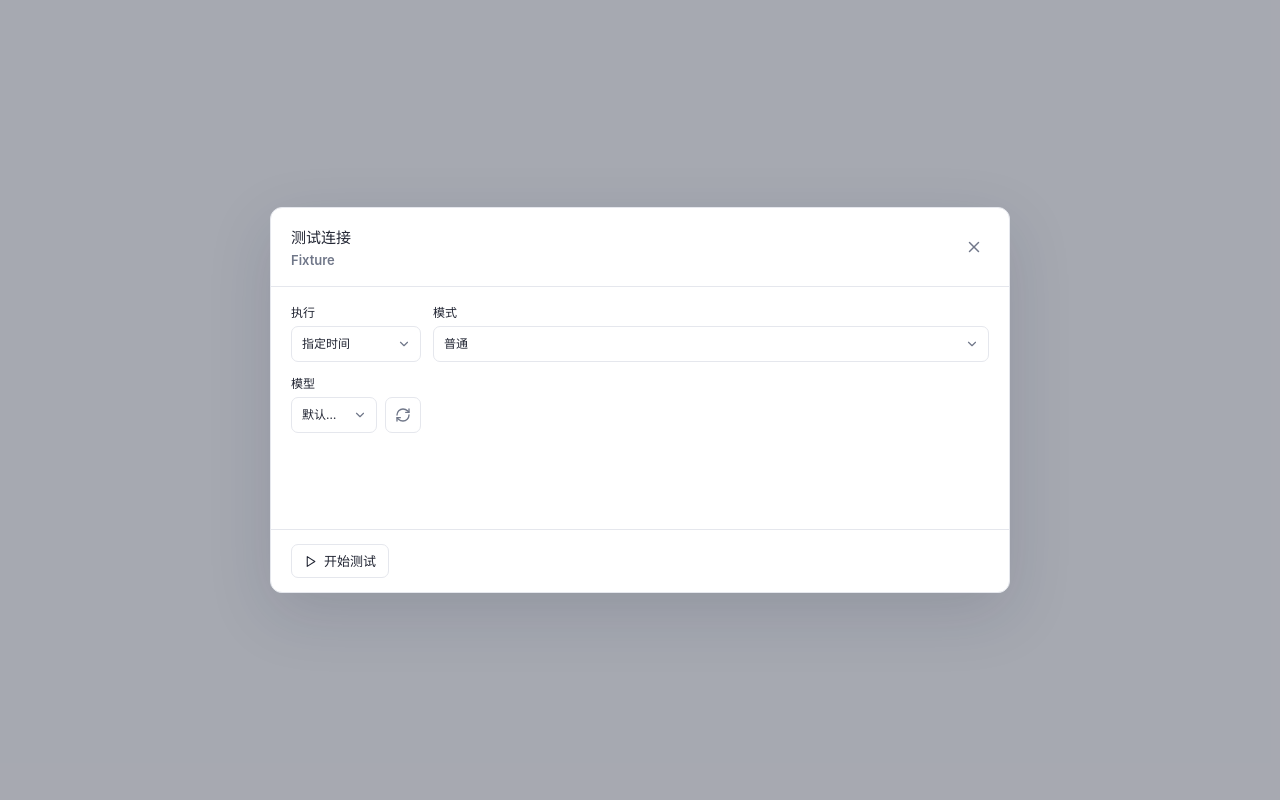
Test case: keeps the appointment dialog open when submission is needs_confirmation
The width and height of the screenshot is (1280, 800).
Select "指定时间" in the dropdown named "执行方式" at (356, 344), box [291,326,421,362]
Select "指定时间" in the dropdown named "执行方式" at (356, 344), box [291,326,421,362]
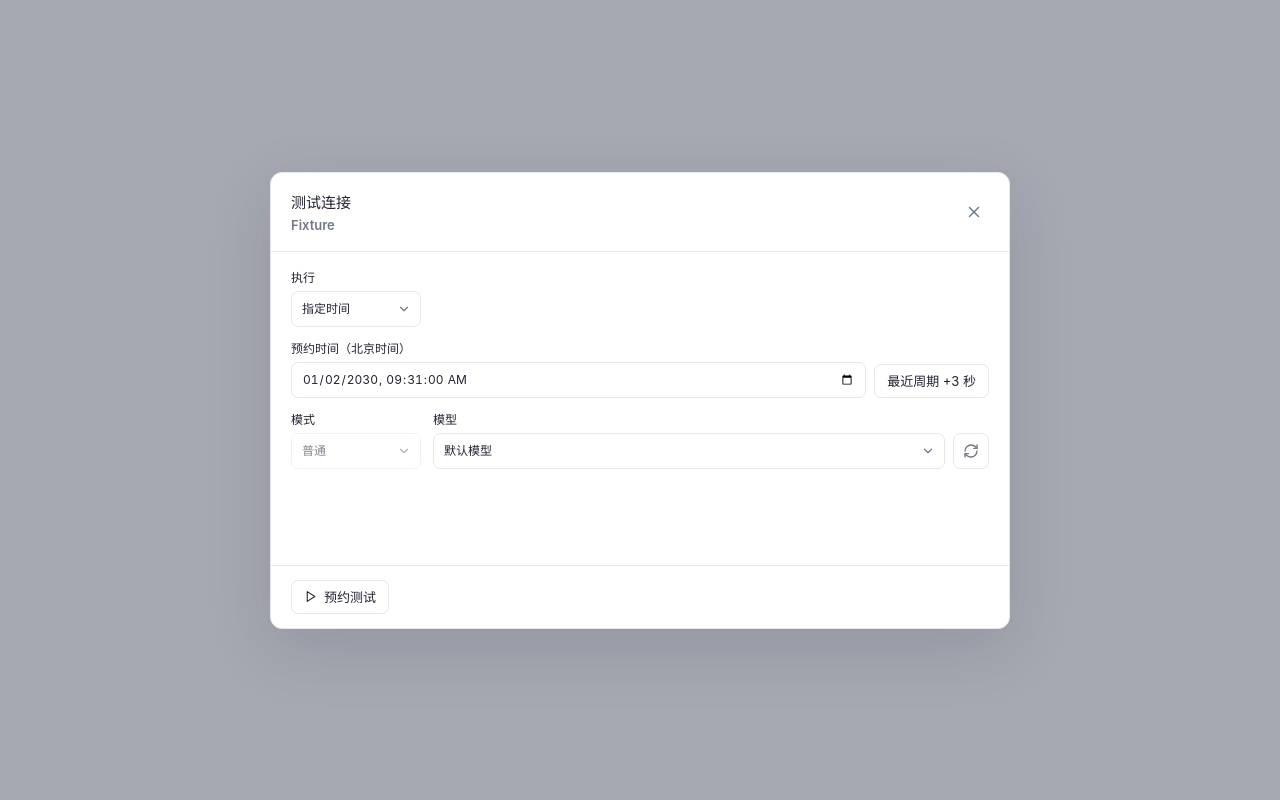
Click the button "预约测试" at (340, 596), box [291,580,389,614]
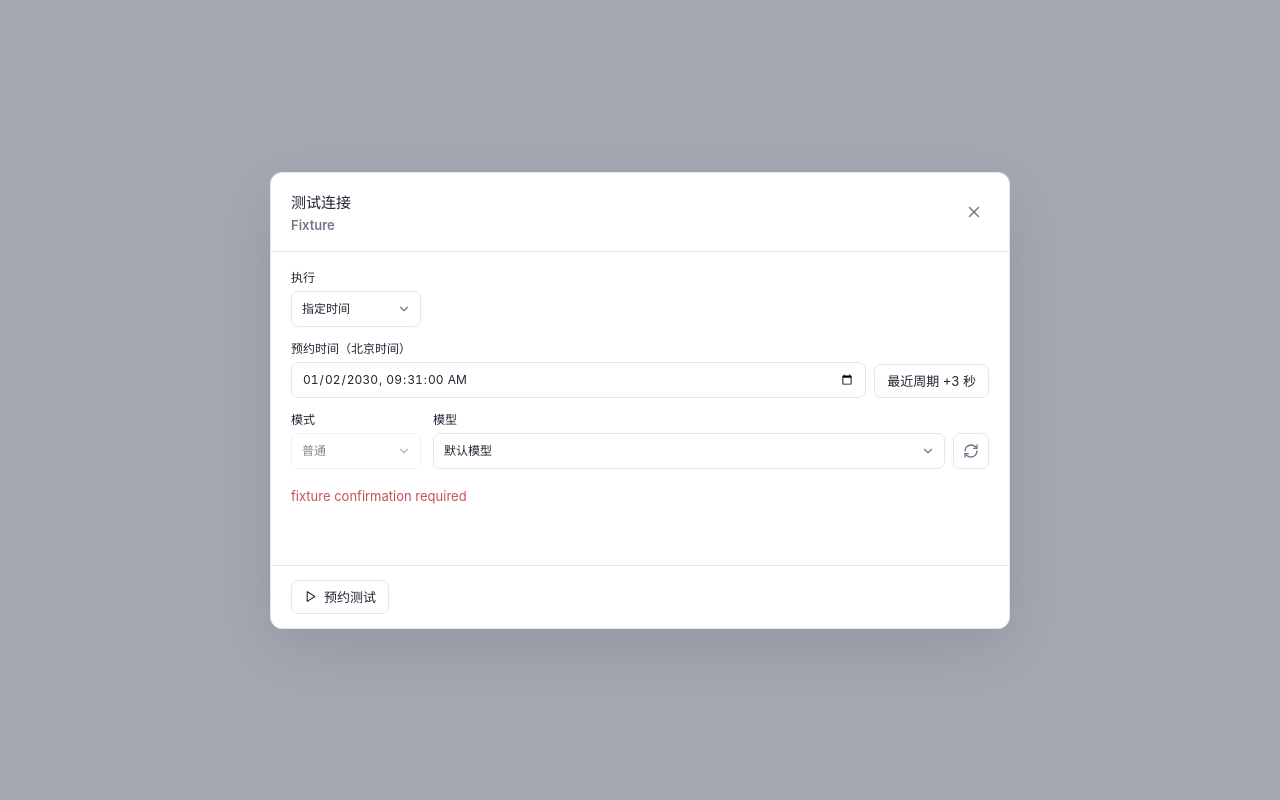
Expected: the message "fixture confirmation required" is shown, [291,488,467,504]
